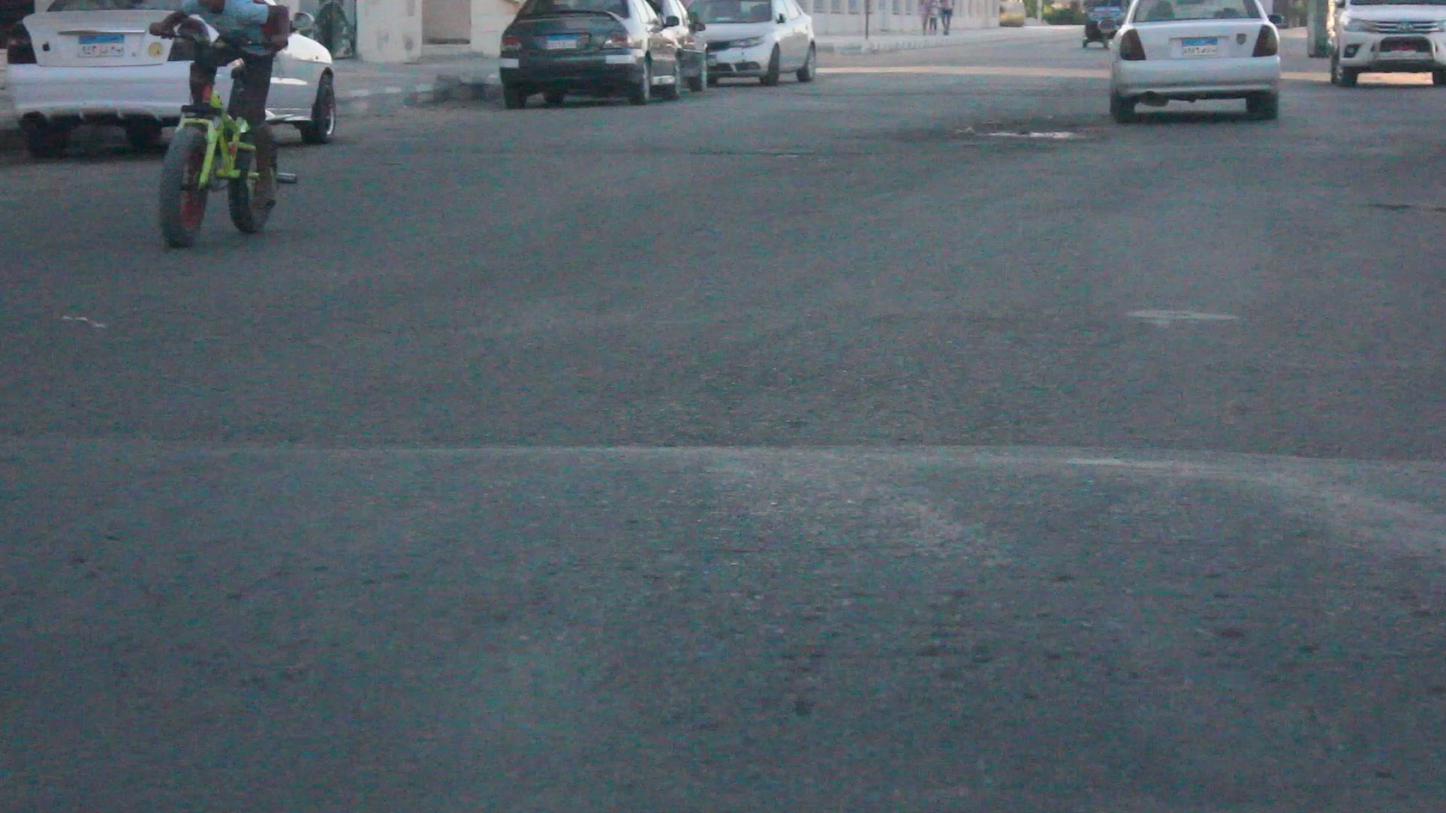Bump: (0, 431, 1446, 813)
